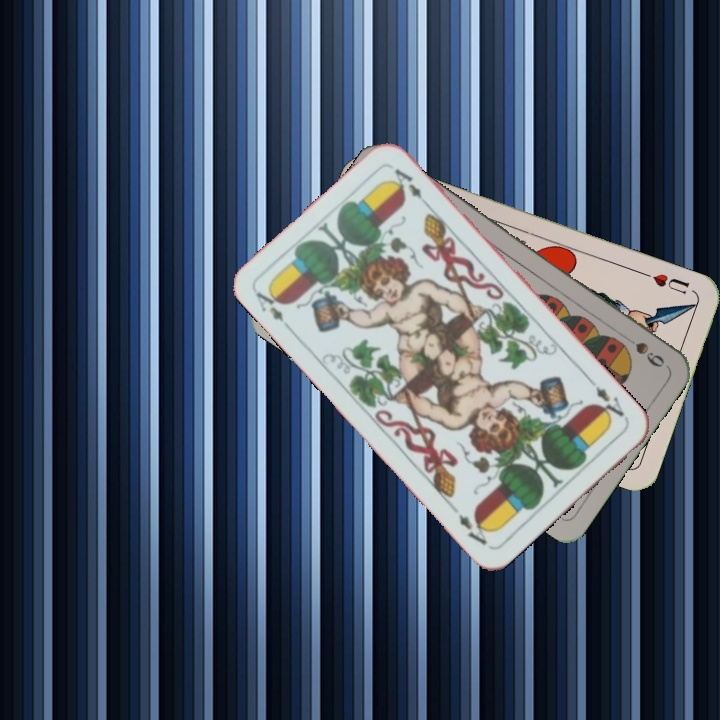EA: (251, 283, 295, 334), (585, 377, 627, 425)
HU: (639, 268, 692, 297)
S9: (617, 330, 667, 371)
